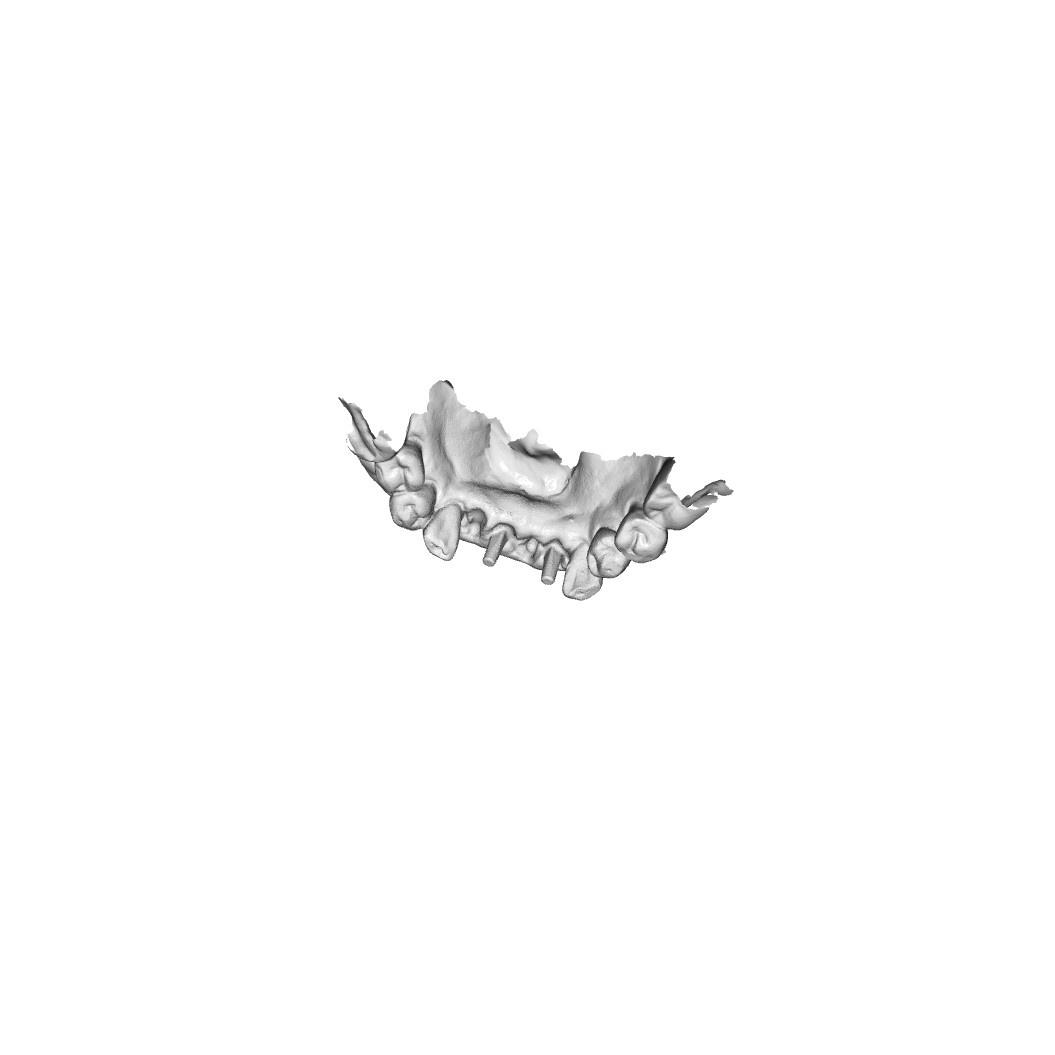abutment: (482, 519, 507, 579), (535, 540, 562, 593)
canine: (562, 547, 602, 604), (423, 509, 460, 561)
premolar: (615, 506, 666, 566), (376, 447, 425, 494), (584, 531, 629, 578), (389, 487, 431, 530)
